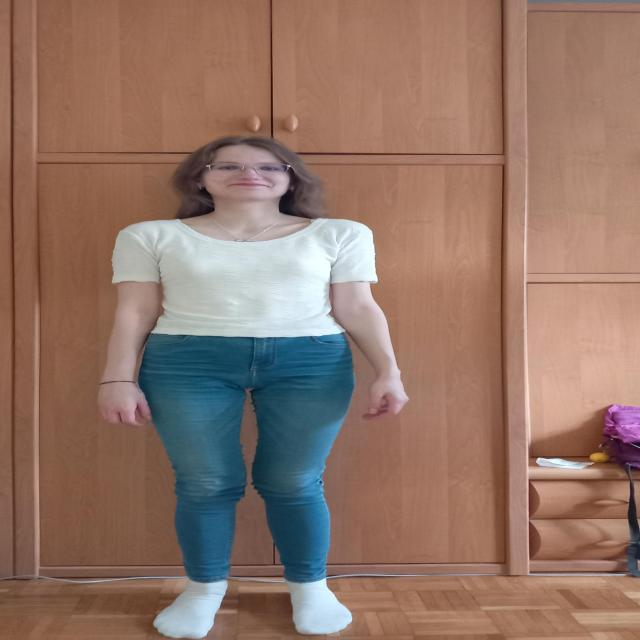Tshirt: (113, 218, 379, 338)
pants: (137, 333, 356, 583)
